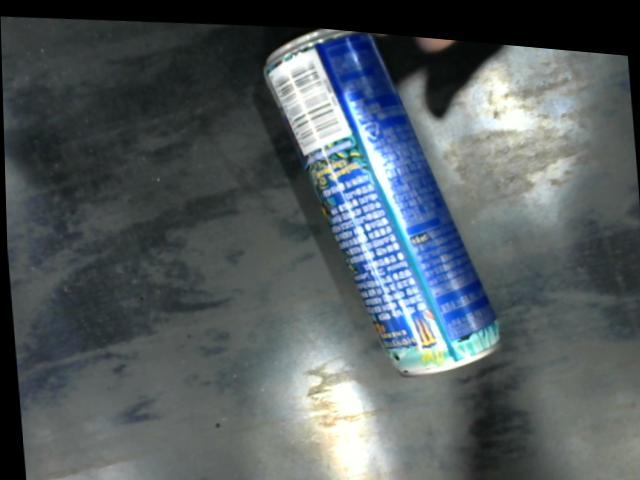can: (260, 22, 505, 372)
